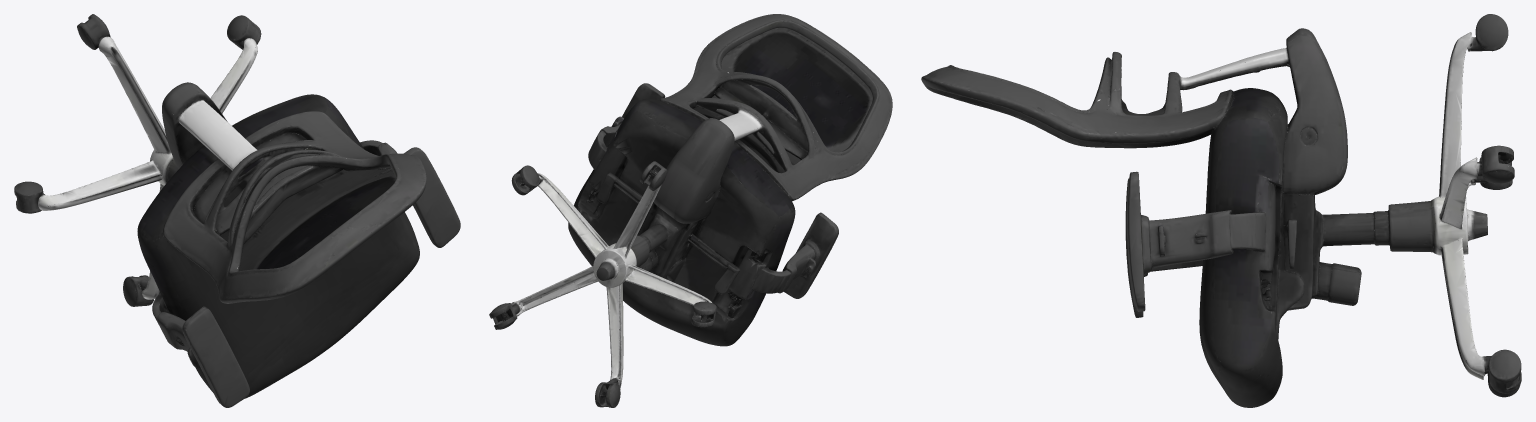
Rendered from final_2nd_floor_17.glb.
3 renders of one model, left to right at view 1: azimuth 30°, elevation 25°; view 2: azimuth 150°, elevation 25°; view 3: azimuth 270°, elevation 25°, orthographic. The views are drawn at different scales.
Parts seen in each view (by area): view 1: Ramdhan.018; view 2: Ramdhan.018; view 3: Ramdhan.018.
Boxes of the visible parts, <box> form: Ramdhan.018: <box>14,14,460,407</box>; Ramdhan.018: <box>489,14,892,407</box>; Ramdhan.018: <box>921,14,1521,407</box>.
Size of the model in its own units: 0.0209 by 0.0214 by 0.0329.
1 material, 1 textured.
